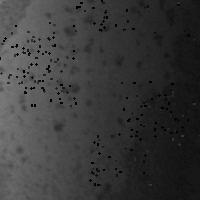pitted_surface: (116, 21, 199, 200), (35, 14, 112, 176), (2, 12, 38, 178), (15, 45, 75, 105), (89, 124, 149, 184), (0, 22, 54, 82), (121, 81, 174, 138), (136, 0, 196, 39), (164, 83, 200, 143), (73, 0, 132, 30)
